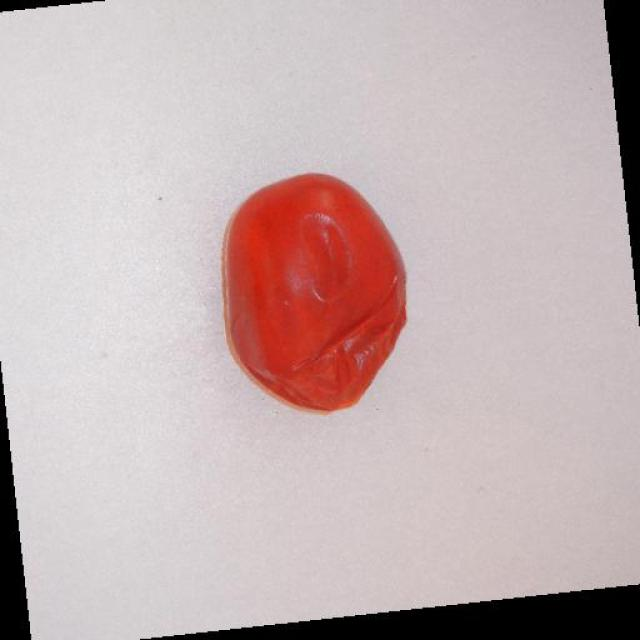Stale_tomato: (219, 152, 422, 435)
